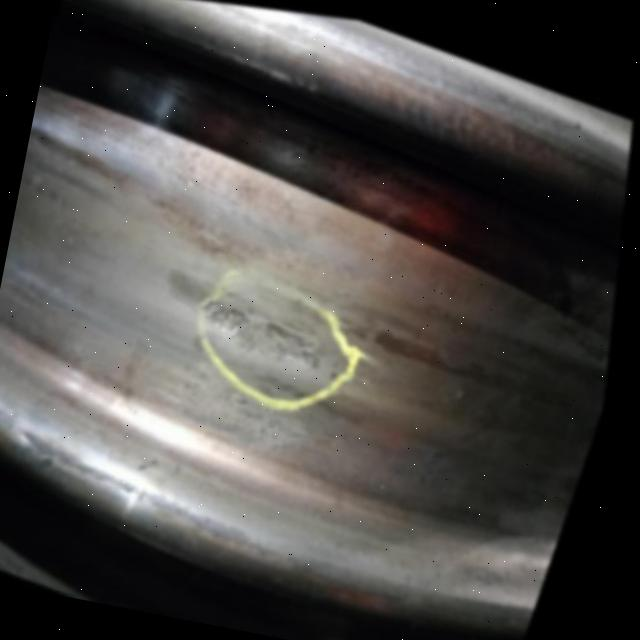Rollerpile: (143, 251, 341, 376)
